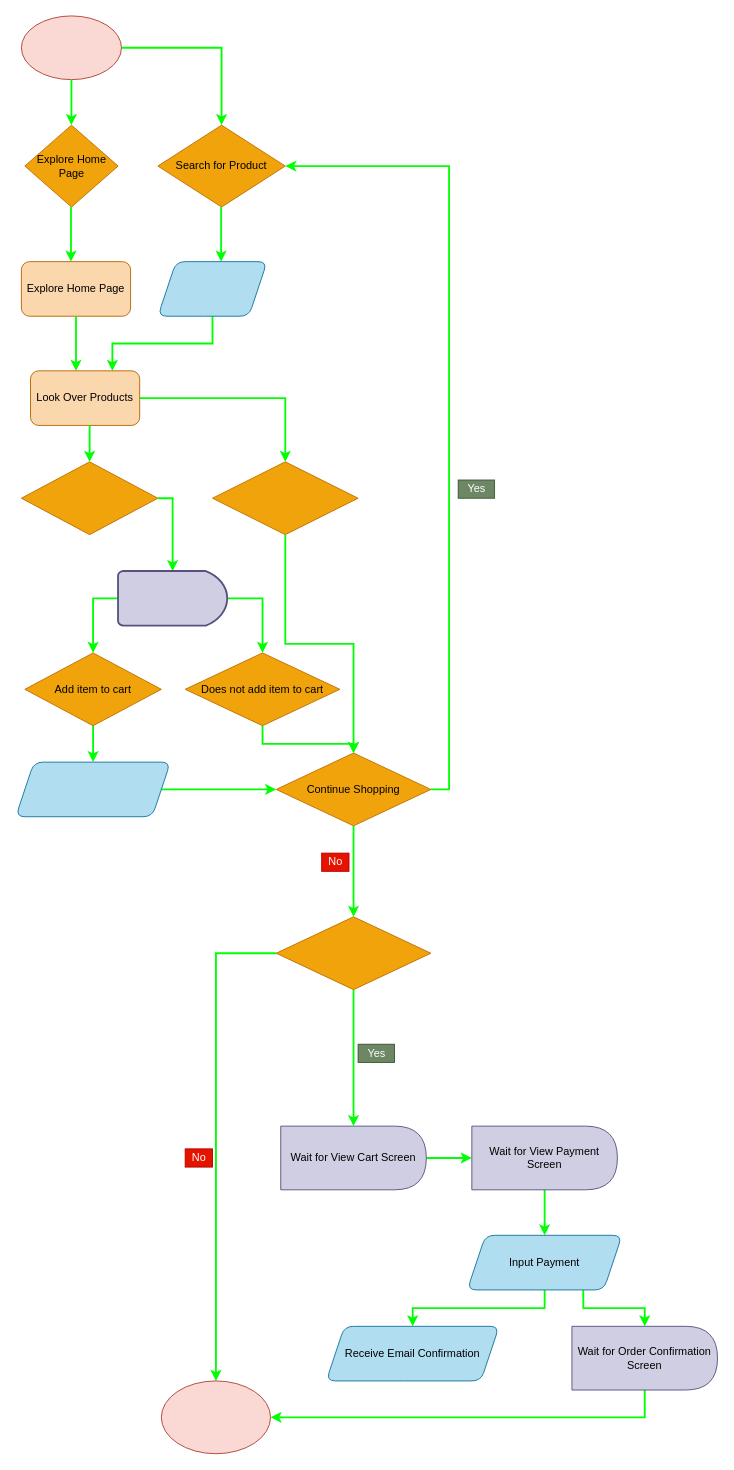
This 734x1470 diagram has some shape labels left out. Each missing label, with the centre of its shape:
Checkout: point 353,953
Does not view Product: point 285,498
Enter Site: point 70,47
Exit Site: point 215,1417
Provide Input to Search: point 212,288
Receive added to Cart Confirmation: point 92,789
View Specific Product: point 89,498
Wait for product Webpage to Open: point 172,598
